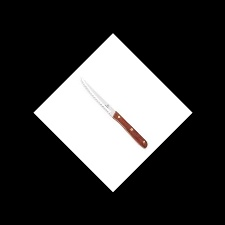k1: (80, 77, 121, 121)
